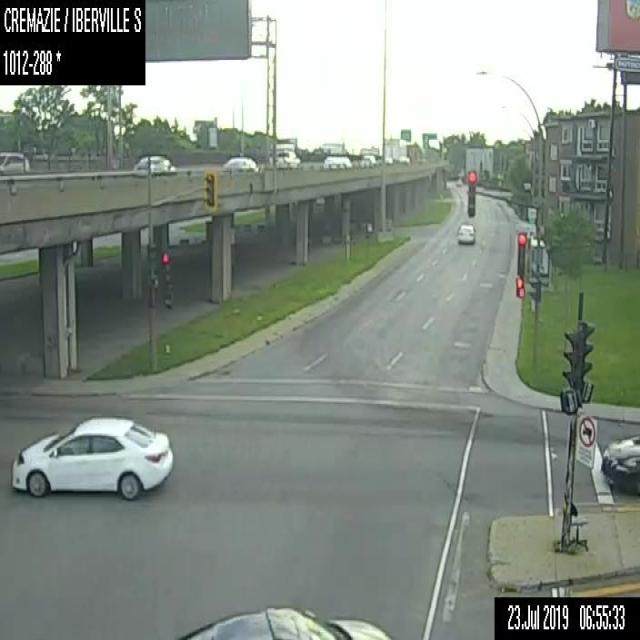vehicle: (9, 412, 174, 499), (177, 602, 396, 638), (599, 432, 639, 496), (134, 152, 178, 177), (0, 149, 29, 176), (274, 142, 301, 169), (220, 154, 264, 170), (384, 137, 410, 163), (456, 221, 476, 247), (323, 154, 351, 170), (360, 154, 376, 168), (384, 154, 393, 166)
